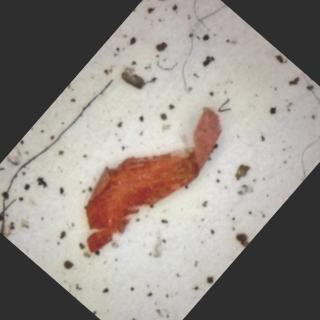Microplastic: (0, 59, 138, 243), (234, 61, 320, 182)
